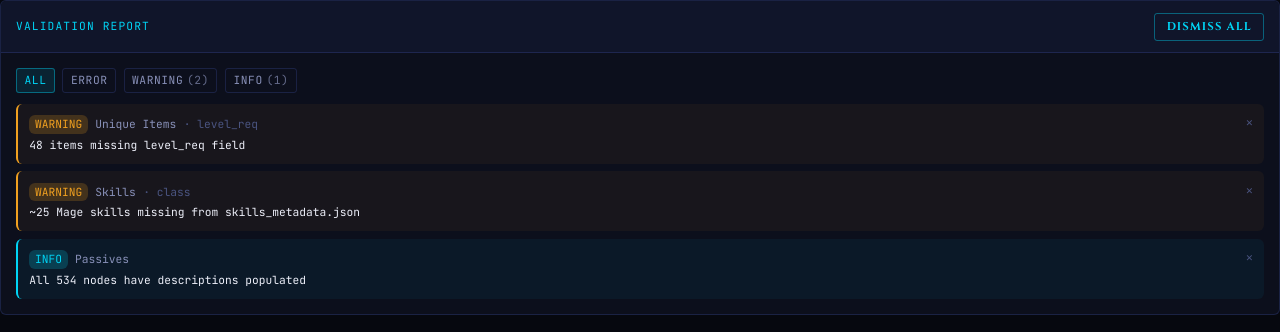
Test: ErrorReportingPanel › filters to show only info when info tab clicked
What coordinates should you click on to do the following:
click the button "info(1)"
I would click on:
 (261, 80)
Its box is [225, 68, 297, 93].
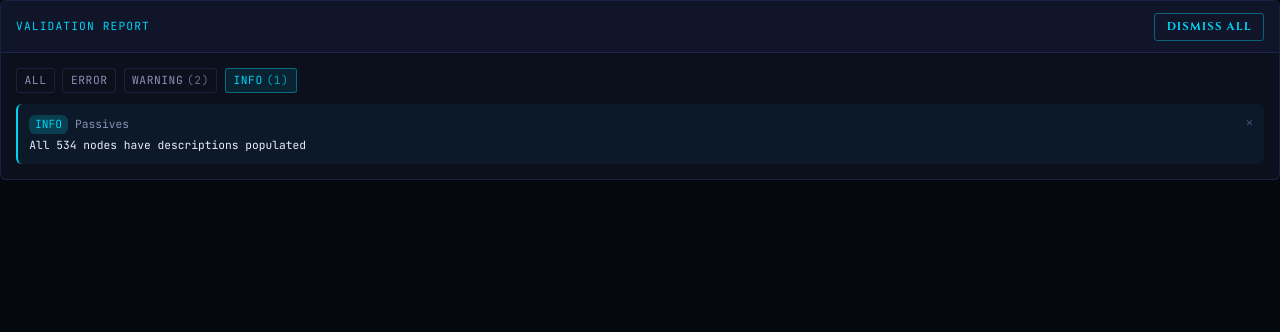
Expected: the text "All 534 nodes have descriptions populated" is shown, [29, 138, 306, 152]
Expected: the text "48 items missing" is gone
